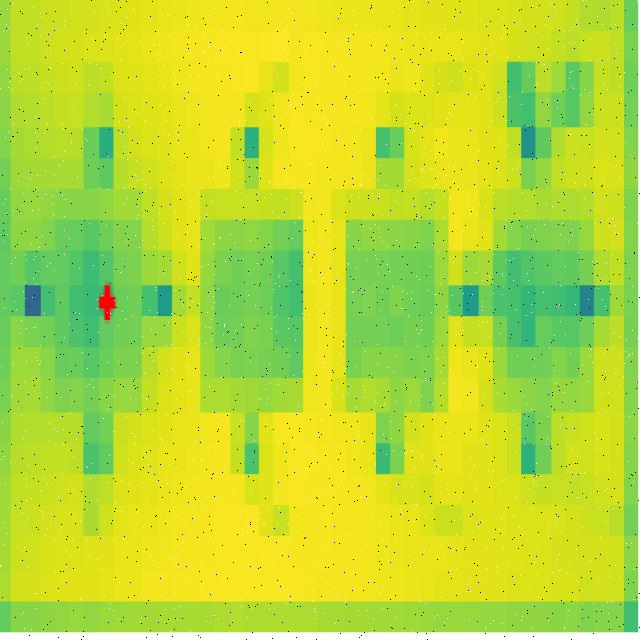Concrete: (495, 196, 578, 405)
Glass: (341, 204, 439, 415)
Metal: (50, 214, 142, 413)
Wood: (200, 191, 303, 413)
